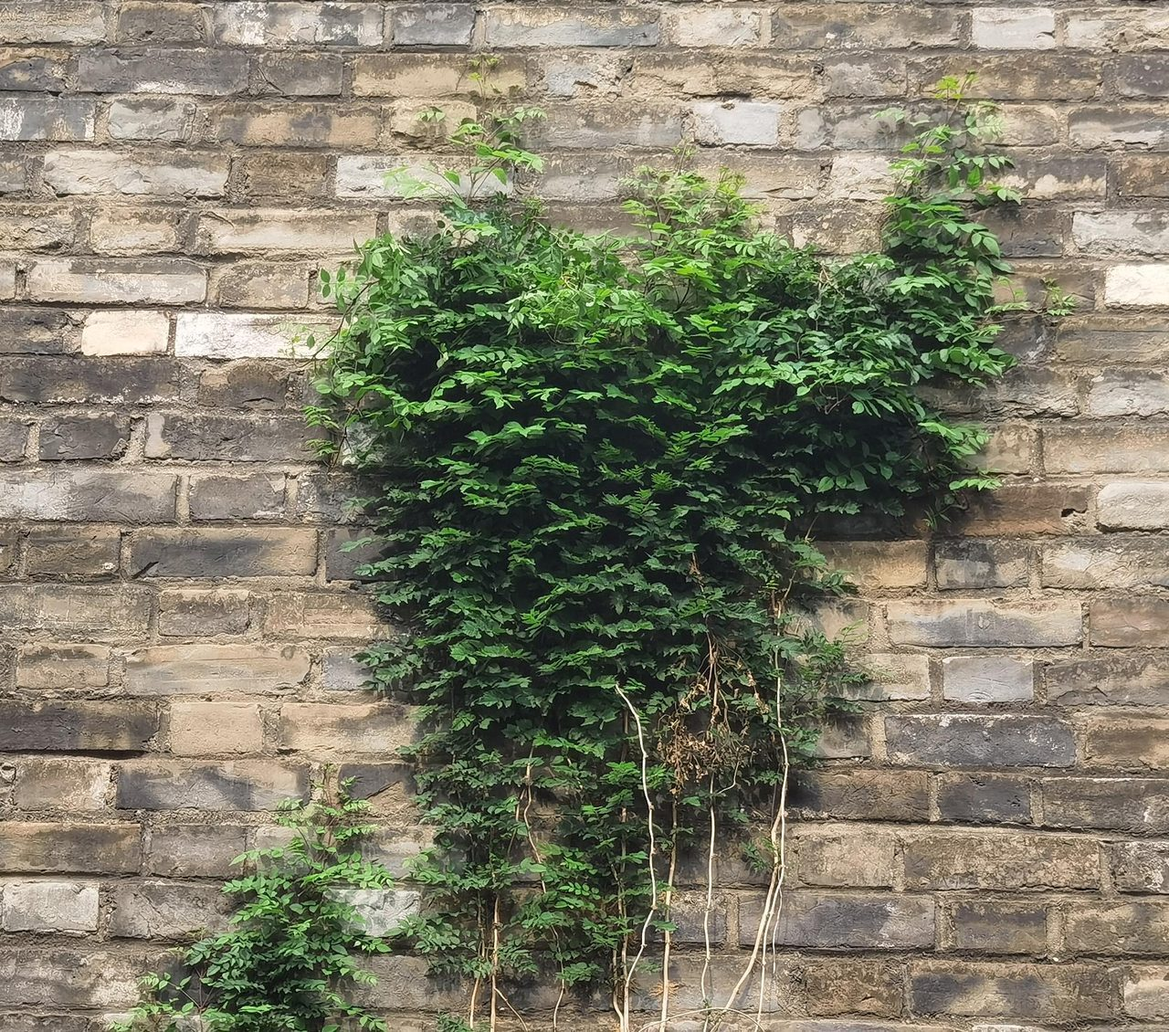vegetation: (318, 49, 1070, 1031), (129, 776, 388, 1032)
